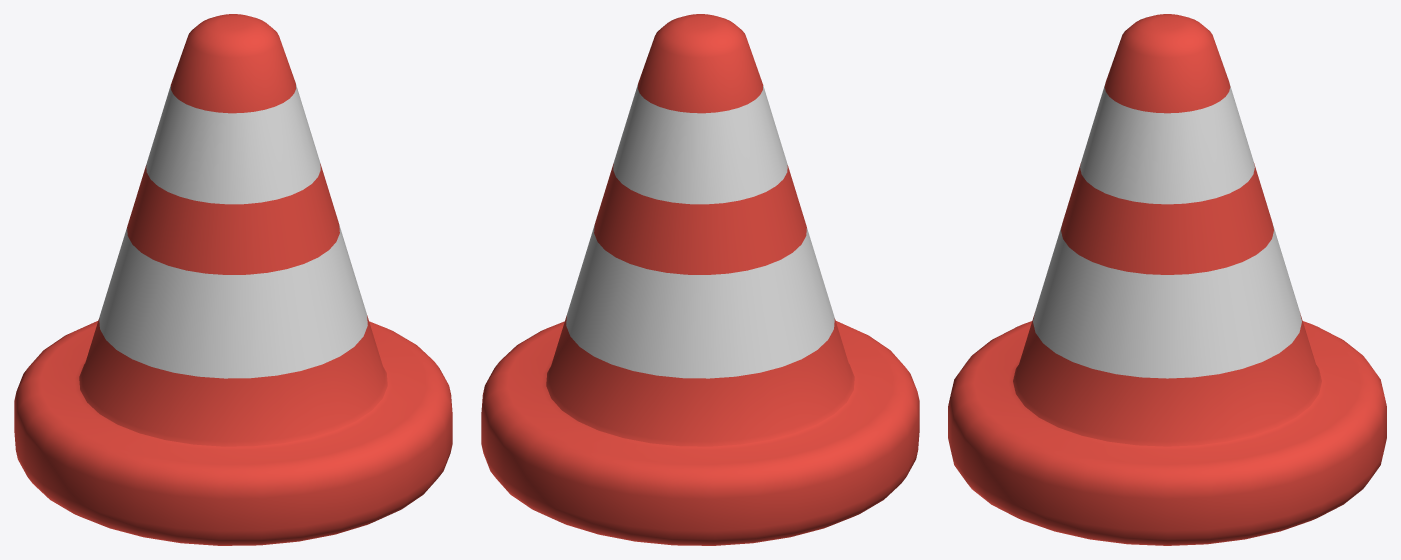
Rendered from Obstacle1.fbx.
3 renders of one model, left to right at view 1: azimuth 30°, elevation 25°; view 2: azimuth 150°, elevation 25°; view 3: azimuth 270°, elevation 25°, orthographic.
Parts seen in each view (by area): view 1: Obstacle1; view 2: Obstacle1; view 3: Obstacle1.
Part boxes in pixels (box(x1,y1,x2,y2)): Obstacle1: box(14, 14, 452, 545); Obstacle1: box(481, 14, 919, 545); Obstacle1: box(948, 14, 1386, 545).
Bounding box in the file's own units: 1.24 × 1.37 × 1.24.
